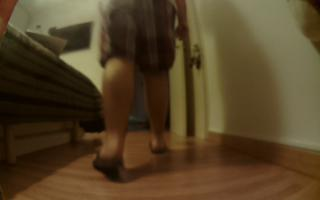person: (91, 1, 189, 180)
